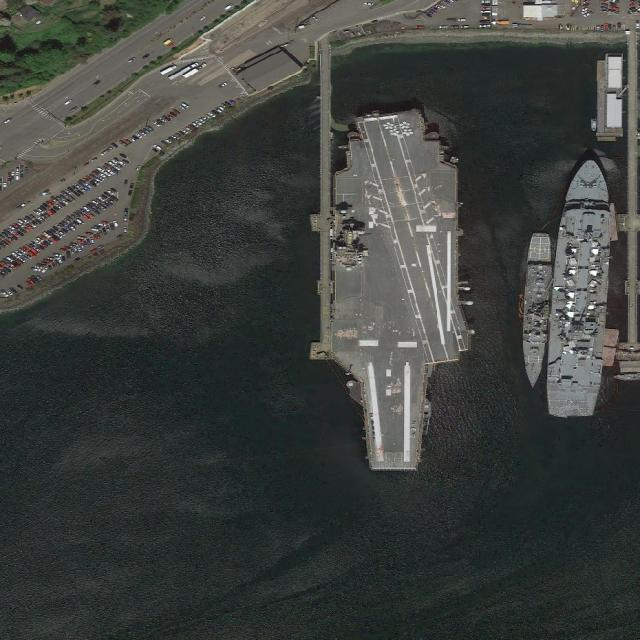Aircraft Carrier: (328, 107, 474, 471)
Auxiliary Ships: (542, 153, 617, 422)
Dock: (321, 44, 331, 343)
Frigate: (520, 231, 552, 388)
